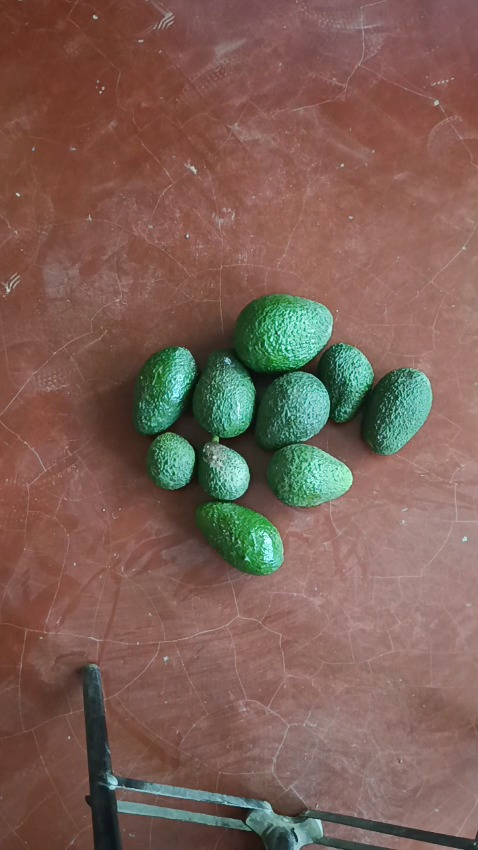Primera: (232, 293, 333, 372)
Segunda: (194, 501, 282, 574), (362, 366, 434, 454), (254, 371, 329, 450), (132, 345, 197, 435), (192, 350, 257, 439), (266, 443, 352, 507)
Tercera: (315, 341, 373, 423), (196, 438, 251, 500), (145, 431, 195, 490)
